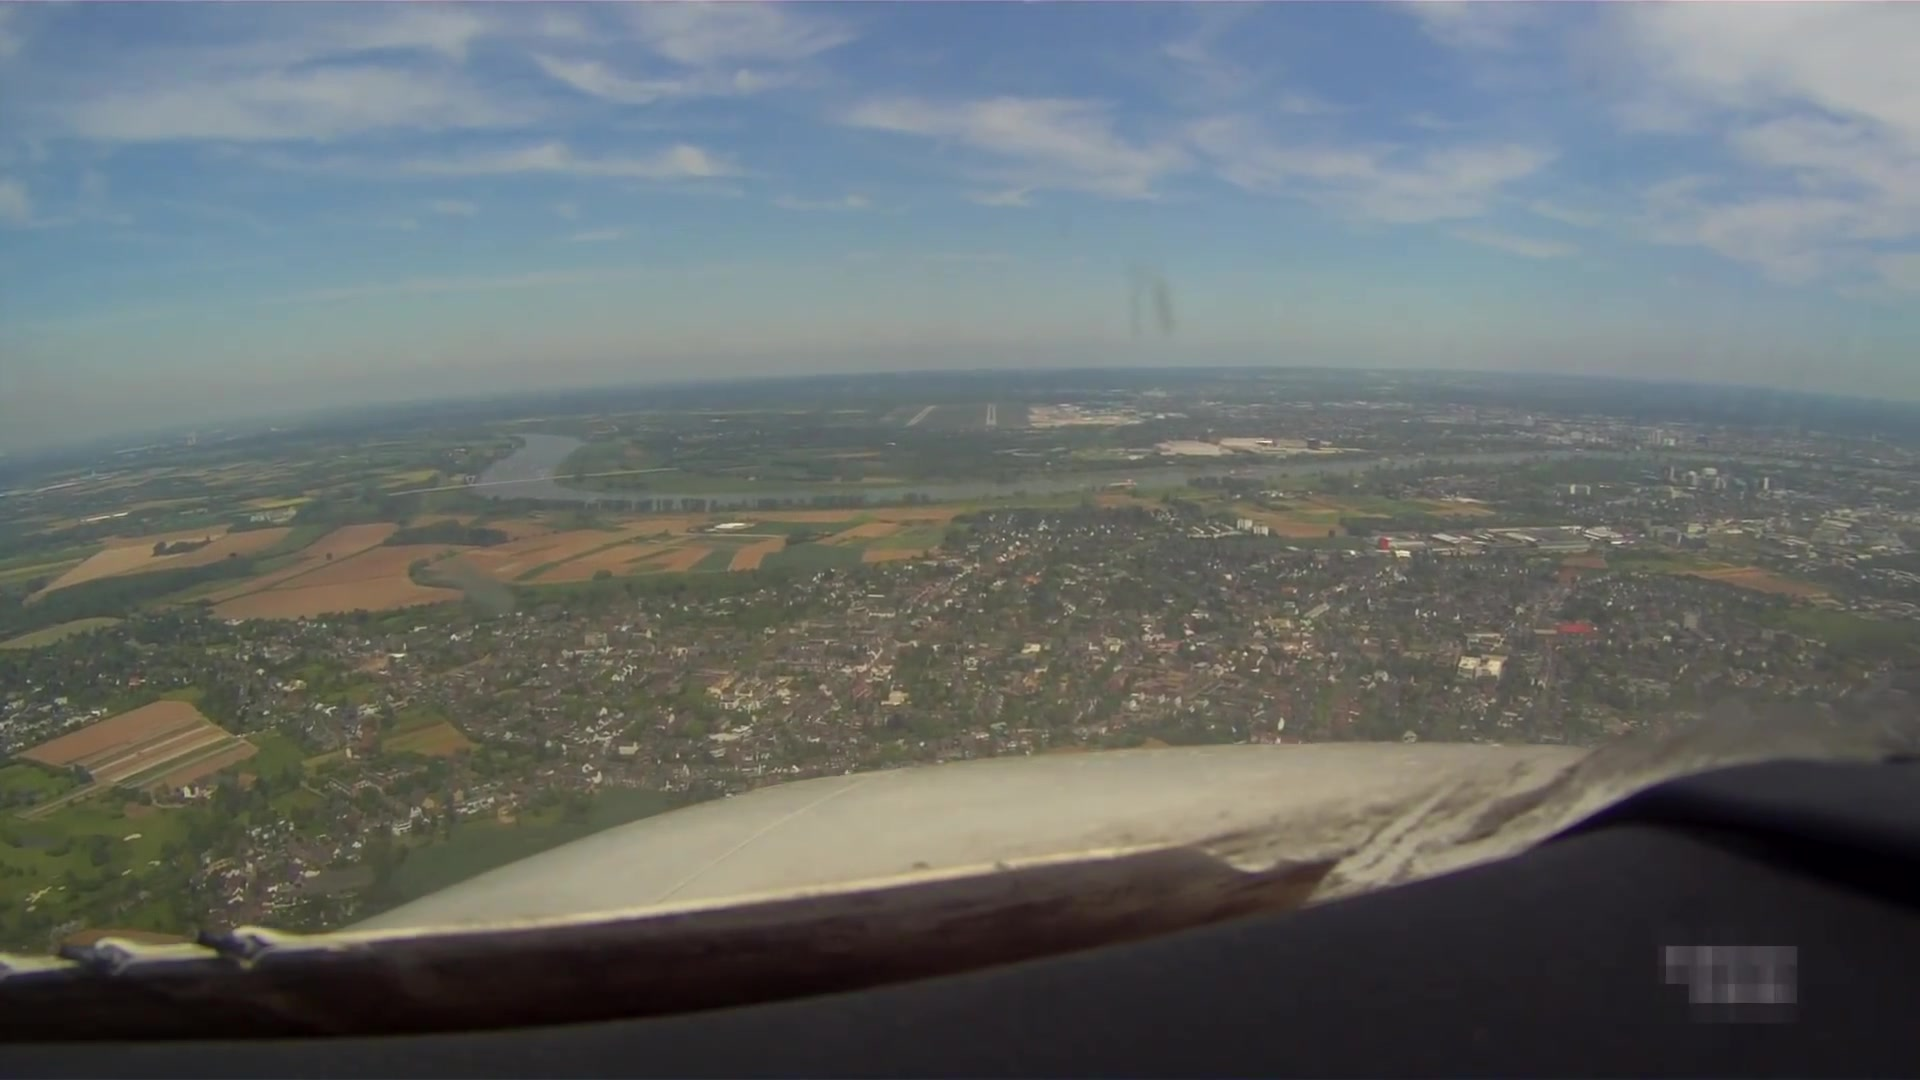runway: (905, 404, 938, 429), (985, 401, 997, 429)
